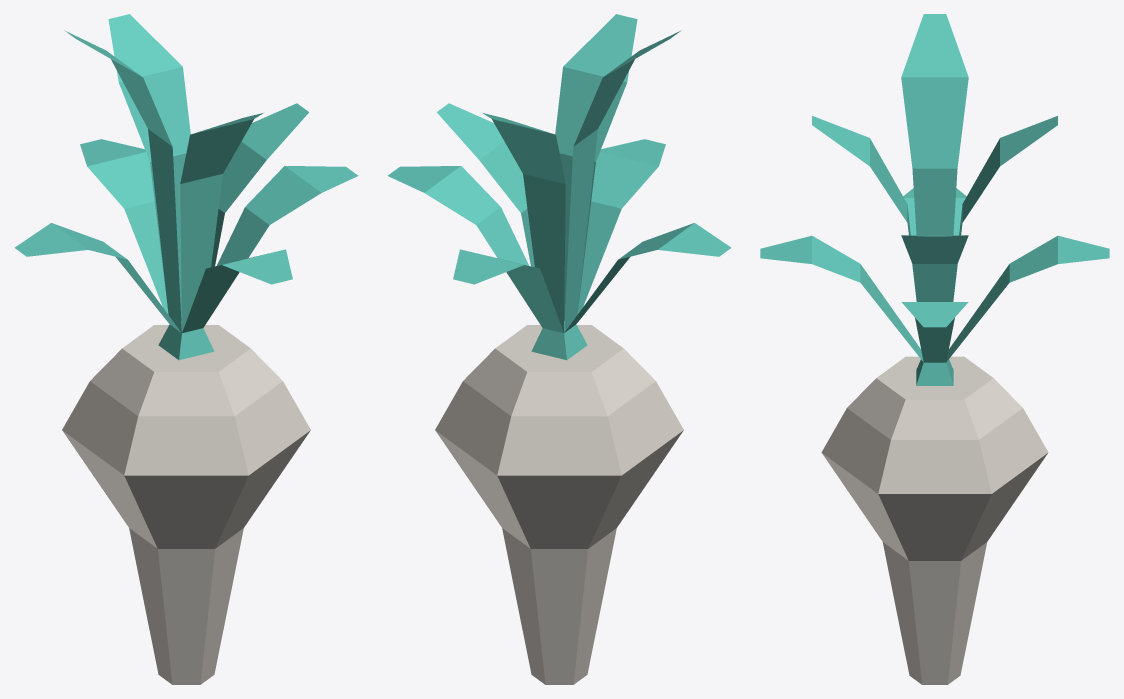
File: crop_turnip.glb
3 renders of one model, left to right at view 1: azimuth 30°, elevation 25°; view 2: azimuth 150°, elevation 25°; view 3: azimuth 270°, elevation 25°, orthographic. The views are drawn at different scales.
Parts seen in each view (by area): view 1: crop_turnip; view 2: crop_turnip; view 3: crop_turnip.
Part boxes in pixels (bbox=[...]): crop_turnip: bbox=[14, 14, 358, 684]; crop_turnip: bbox=[387, 14, 731, 684]; crop_turnip: bbox=[760, 14, 1109, 684].
Size of the model in its own units: 0.3431 by 0.6607 by 0.3431.
